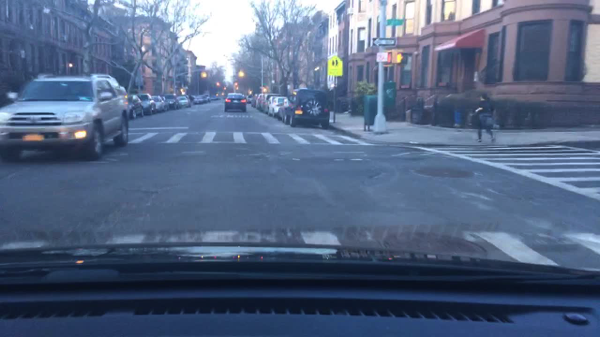car: (0, 71, 131, 162), (285, 89, 329, 129), (224, 93, 247, 112), (128, 94, 145, 118), (261, 92, 281, 112), (265, 96, 285, 115), (138, 94, 156, 113), (272, 97, 289, 117), (163, 93, 179, 109), (151, 96, 165, 111), (255, 93, 266, 109), (193, 94, 210, 104), (176, 96, 191, 107), (162, 96, 169, 110), (181, 94, 191, 103), (245, 94, 253, 103), (252, 94, 258, 106), (204, 93, 211, 101), (188, 94, 196, 101), (211, 96, 221, 101)
person: (469, 94, 496, 143)
traffic light: (387, 49, 396, 65), (396, 52, 408, 64), (201, 71, 206, 78), (238, 71, 243, 77), (234, 80, 238, 86), (216, 82, 220, 86)
traffic sign: (327, 56, 343, 76), (373, 38, 395, 46), (375, 53, 388, 62), (387, 19, 403, 26), (259, 86, 265, 89), (263, 82, 266, 85)
